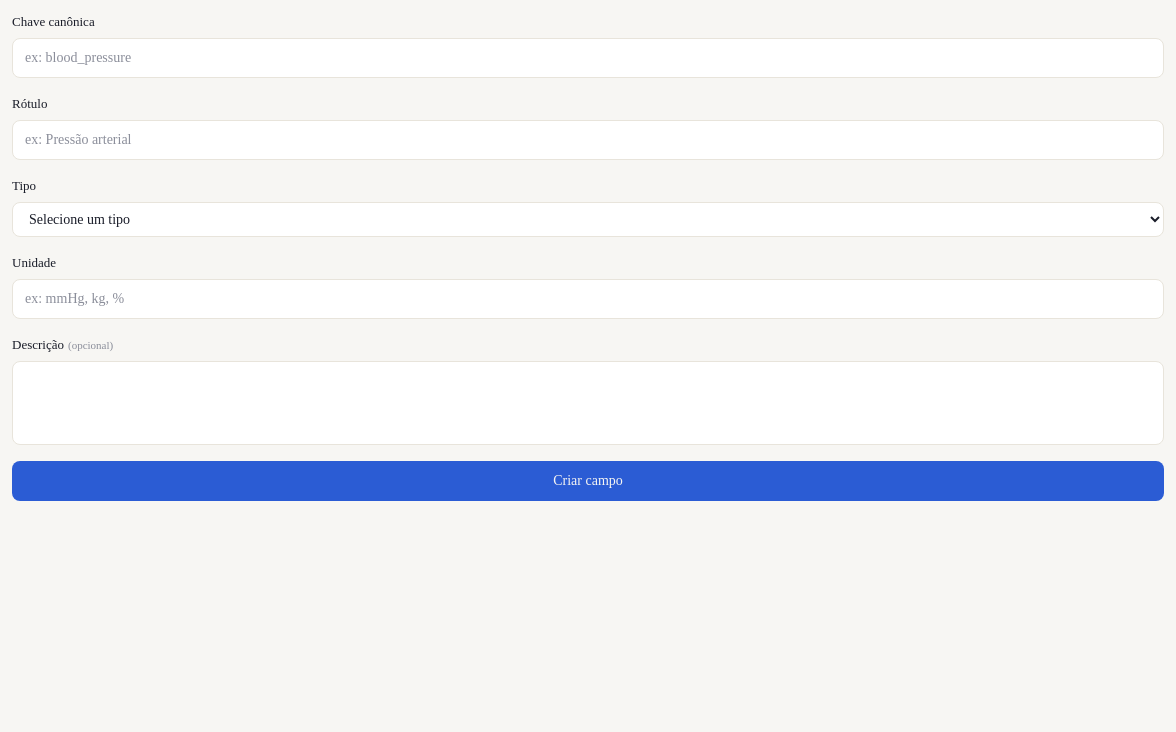
Scenario: CanonicalFieldForm (integration) — create mode › shows type error when form submitted without selecting a type
Type "weight" into the field with test id "canonical-field-form-canonical-key".
click(588, 58); type("weight")  # box [12, 38, 1164, 78]
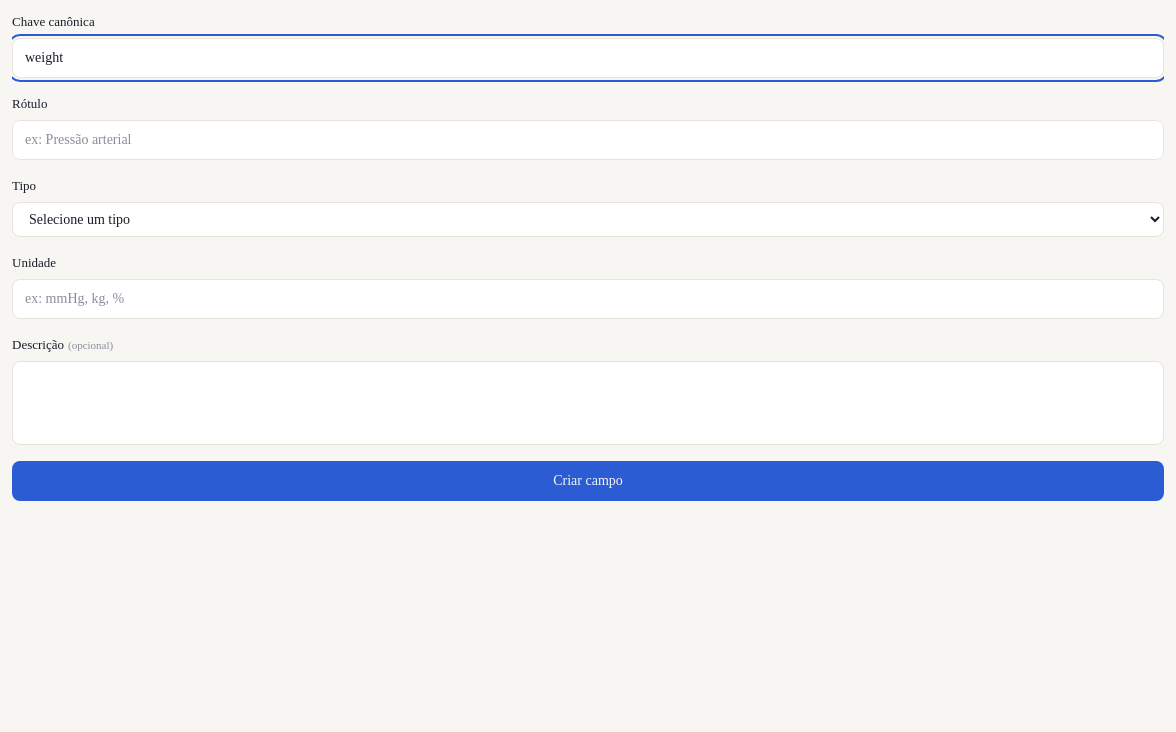
Type "Peso" into the field with test id "canonical-field-form-label".
click(588, 140); type("Peso")  # box [12, 120, 1164, 160]
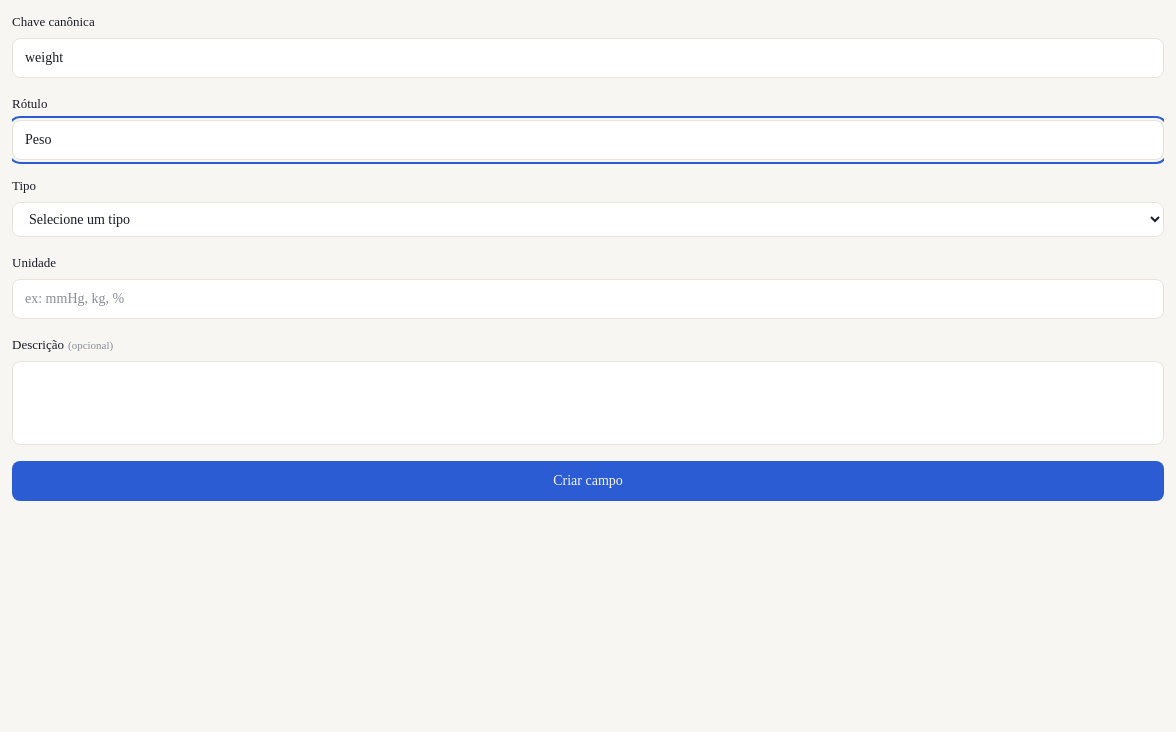
Click the button with test id "canonical-field-form-submit".
click(588, 481)  # box [12, 461, 1164, 501]
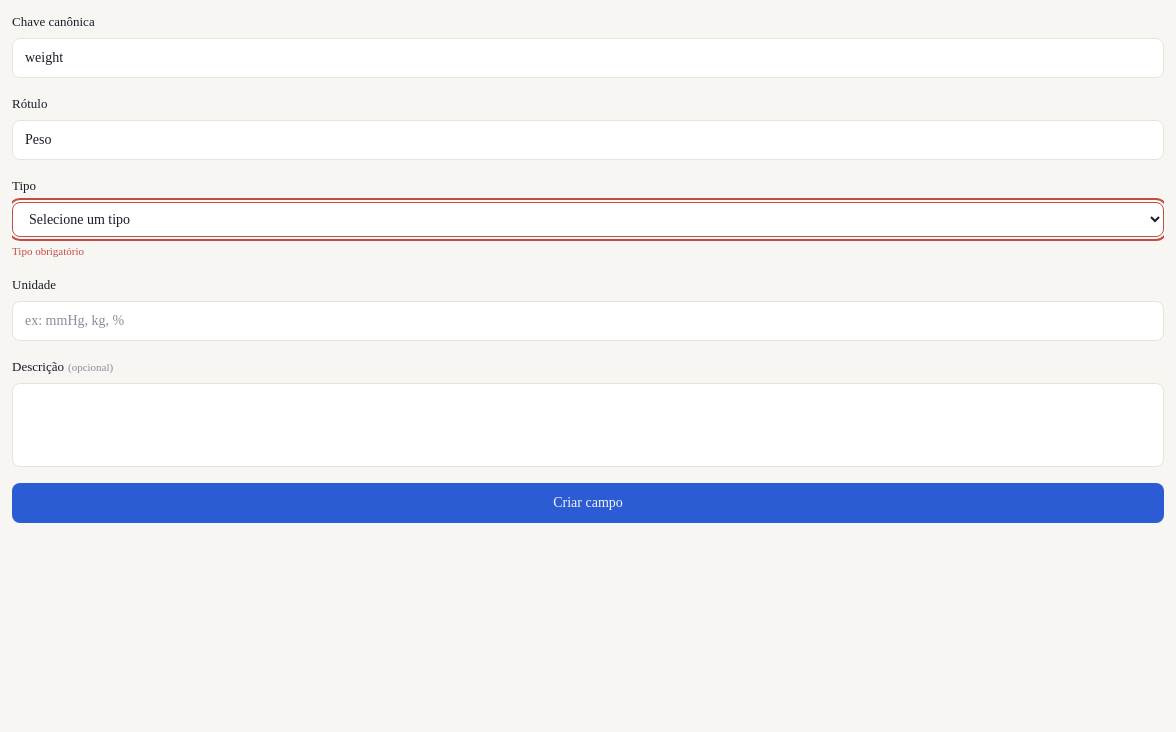
Now the message "Tipo obrigatório" is shown, box [12, 245, 84, 257]
